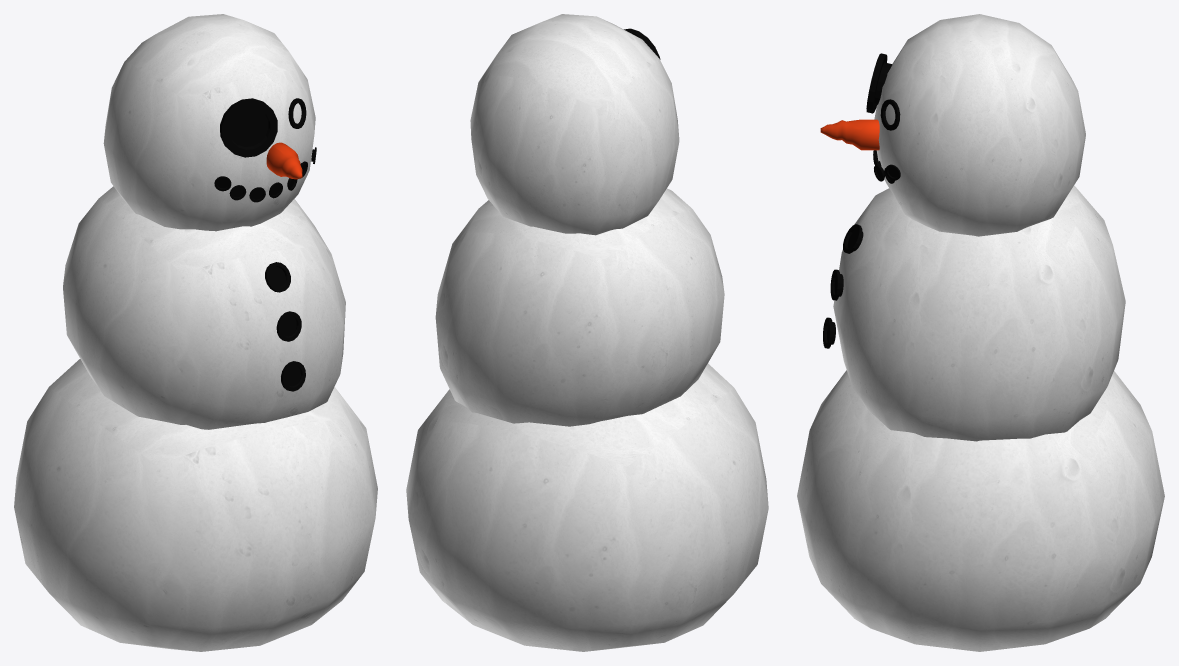
The model's file is snowman.glb.
The picture shows the model from 3 angles, left to right: view 1: azimuth 30°, elevation 25°; view 2: azimuth 150°, elevation 25°; view 3: azimuth 270°, elevation 25°; orthographic projection. The views are drawn at different scales.
Visible parts, largest first — view 1: Cube, Cube.001, Cube.002, Cylinder.001, Cylinder.012, Cylinder.009, Cylinder.010, Cylinder.011; view 2: Cube, Cube.001, Cube.002; view 3: Cube, Cube.001, Cube.002, Cylinder.012, Cylinder.001.
Boxes of the visible parts, bbox=[...] form: Cube: bbox=[14, 359, 377, 651]; Cube.001: bbox=[63, 186, 345, 429]; Cube.002: bbox=[103, 14, 315, 231]; Cylinder.001: bbox=[220, 98, 277, 157]; Cylinder.012: bbox=[266, 142, 302, 179]; Cylinder.009: bbox=[265, 262, 290, 292]; Cylinder.010: bbox=[276, 311, 301, 341]; Cylinder.011: bbox=[281, 361, 305, 391]; Cube: bbox=[406, 363, 768, 651]; Cube.001: bbox=[435, 188, 724, 426]; Cube.002: bbox=[470, 14, 679, 235]; Cube: bbox=[797, 370, 1164, 651]; Cube.001: bbox=[833, 185, 1125, 441]; Cube.002: bbox=[874, 14, 1085, 236]; Cylinder.012: bbox=[820, 119, 879, 150]; Cylinder.001: bbox=[866, 53, 892, 113].
Size of what is drawn, in the model's own units: 1.68 by 3 by 1.68.
Materials: 5 (3 with a texture image).
